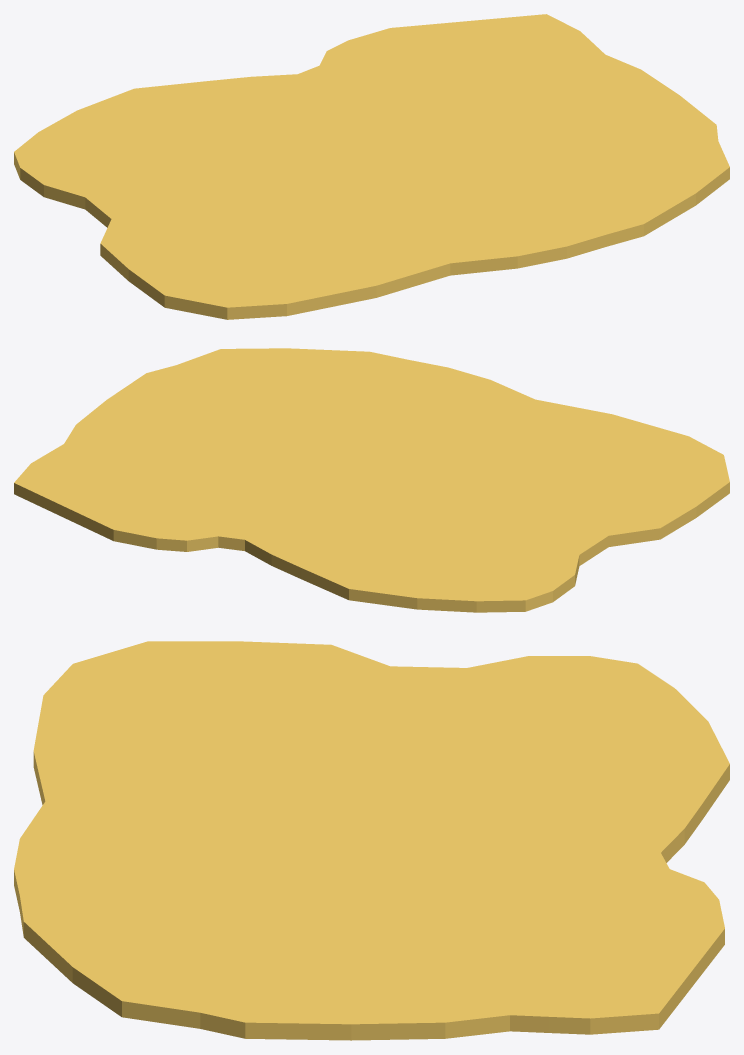
Rendered from Sand 4.FBX.
3 renders of one model, top to bottom at view 1: azimuth 30°, elevation 25°; view 2: azimuth 150°, elevation 25°; view 3: azimuth 270°, elevation 25°, orthographic. The views are drawn at different scales.
Parts seen in each view (by area): view 1: Plane001; view 2: Plane001; view 3: Plane001.
Boxes of the visible parts, x1,y1,x2,y2 form: Plane001: [14, 14, 729, 319]; Plane001: [14, 348, 729, 612]; Plane001: [14, 641, 729, 1040].
Bounding box in the file's own units: 126 × 2.49 × 99.66.
